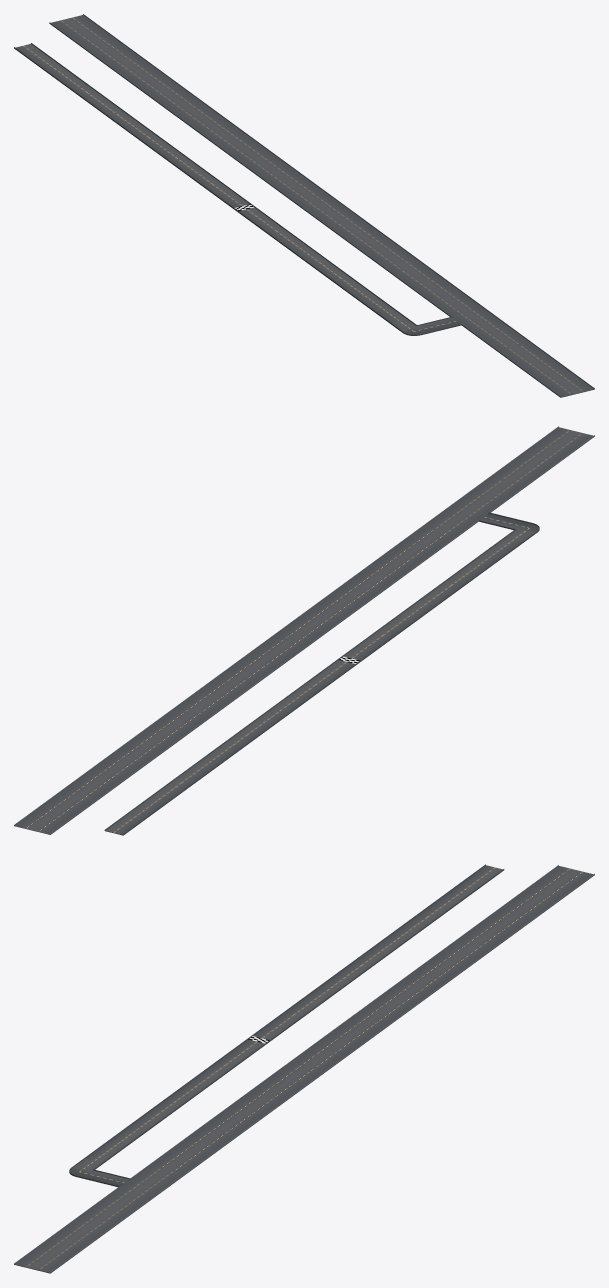
Rendered from Level1Test.fbx.
3 views of the same model, one above another, from view 1: azimuth 30°, elevation 25°; view 2: azimuth 150°, elevation 25°; view 3: azimuth 330°, elevation 25° (orthographic). The views are drawn at different scales.
Visible parts, largest first — view 1: PathLevel1.013; view 2: PathLevel1.013; view 3: PathLevel1.013.
Part boxes in pixels (bbox=[...]): PathLevel1.013: bbox=[14, 14, 594, 397]; PathLevel1.013: bbox=[14, 426, 594, 835]; PathLevel1.013: bbox=[14, 864, 594, 1273].
Bounding box in the file's own units: 1560 × 23.21 × 16017.
